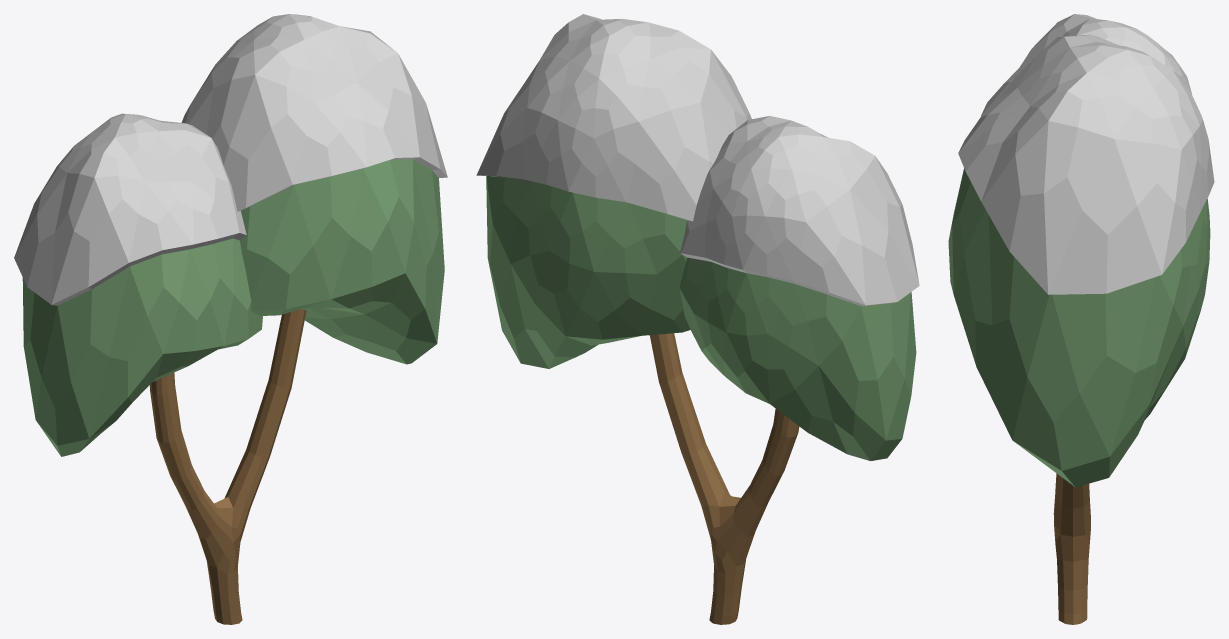
File: Tree4.fbx
3 views of the same model, side by side, from view 1: azimuth 30°, elevation 25°; view 2: azimuth 150°, elevation 25°; view 3: azimuth 270°, elevation 25° (orthographic). The views are drawn at different scales.
Parts seen in each view (by area): view 1: Tree4; view 2: Tree4; view 3: Tree4.
Part boxes in pixels (x1=…): Tree4: x1=14, y1=14, x2=447, y2=624; Tree4: x1=476, y1=14, x2=919, y2=624; Tree4: x1=948, y1=14, x2=1214, y2=624.
Size of the model in its own units: 522 by 719 by 281.
